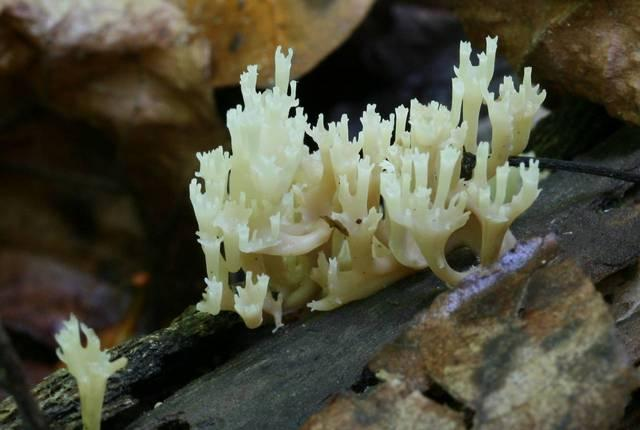Edible Mushroom: (186, 32, 550, 331), (52, 311, 128, 428)
